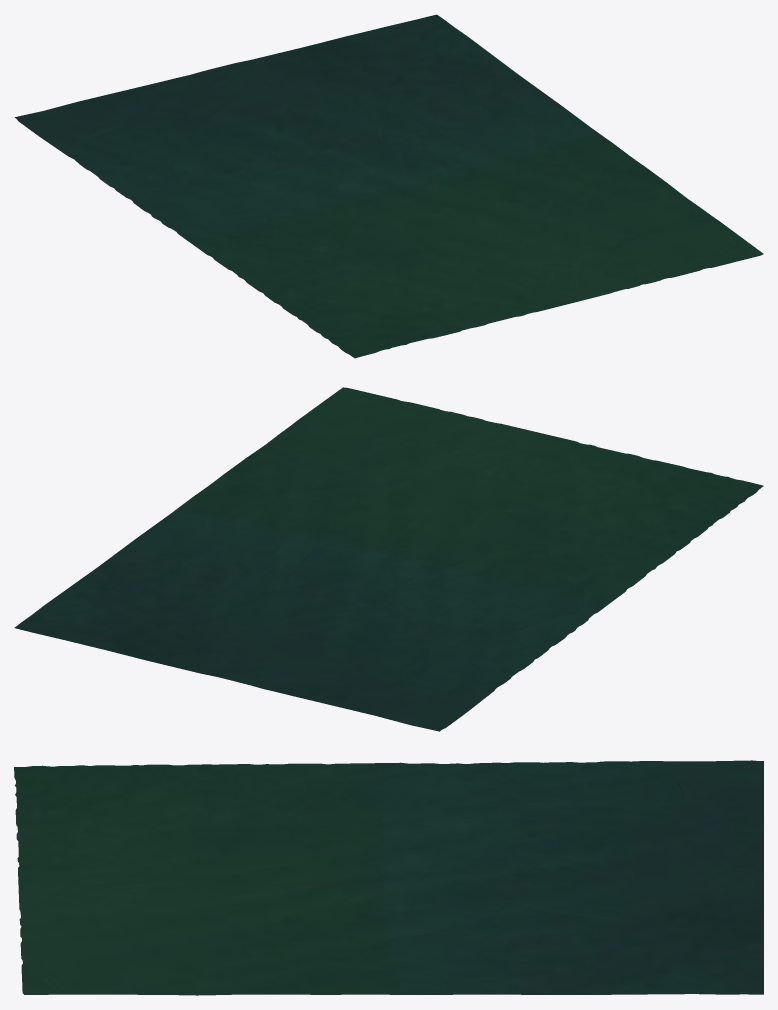
3 renders of one model, top to bottom at view 1: azimuth 30°, elevation 25°; view 2: azimuth 150°, elevation 25°; view 3: azimuth 270°, elevation 25°, orthographic. The views are drawn at different scales.
Bounding box in the file's own units: 385 × 1.45 × 521.
1 material, 1 textured.
